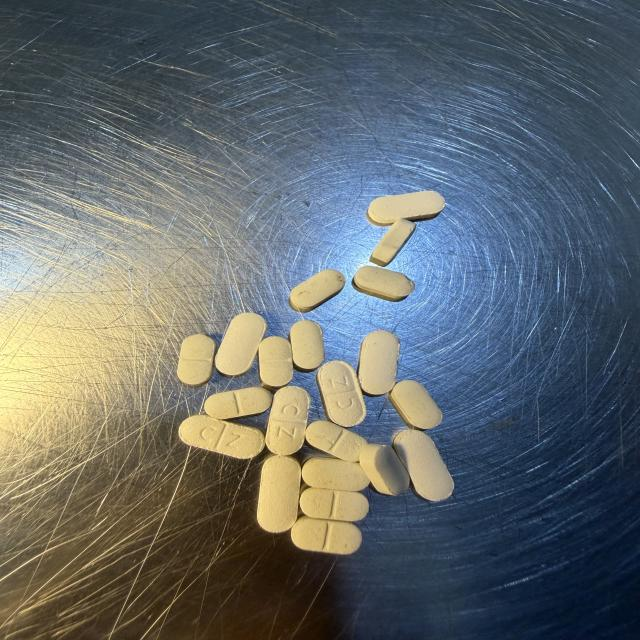pill: (394, 430, 454, 501), (179, 415, 264, 458), (257, 456, 300, 532), (215, 313, 266, 377), (317, 361, 366, 427), (266, 386, 310, 455), (358, 330, 399, 395), (291, 516, 361, 554), (367, 191, 445, 225), (389, 380, 442, 429), (360, 444, 409, 495), (306, 421, 366, 462), (290, 270, 345, 312), (303, 457, 369, 491), (300, 488, 368, 521), (370, 219, 416, 266), (205, 387, 272, 419), (353, 266, 414, 301), (178, 335, 215, 386), (258, 337, 293, 390), (290, 320, 324, 372)
